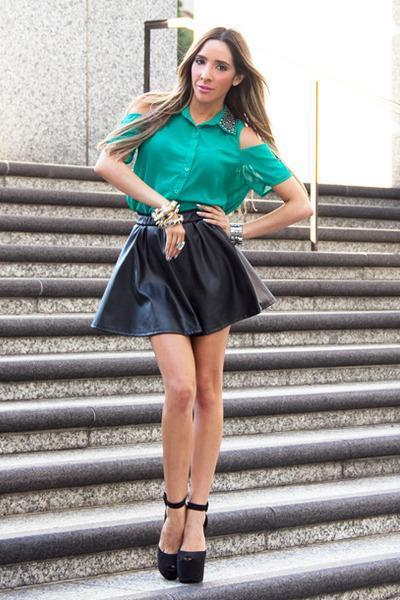jacket: (108, 113, 153, 142)
shirt: (133, 108, 290, 214)
shoe: (158, 492, 207, 583)
skirt: (84, 206, 264, 347)
